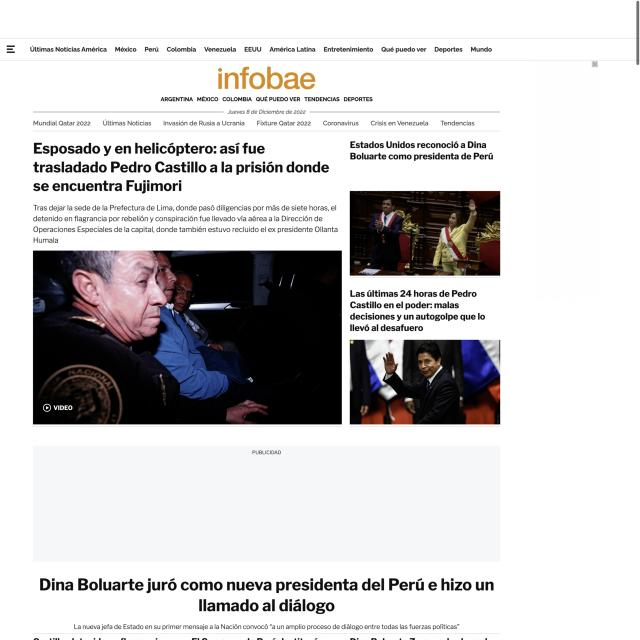logo: (211, 64, 319, 93)
navigation: (28, 43, 494, 55), (30, 117, 479, 128), (158, 94, 377, 104), (5, 42, 18, 56)
